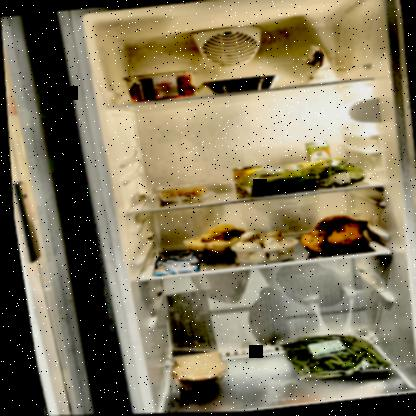chocolate: (147, 252, 198, 278)
corn: (227, 164, 265, 198)
green_beans: (270, 328, 387, 383)
heavy_cream: (301, 138, 334, 186)
mushrooms: (224, 227, 294, 267)
potato: (176, 222, 247, 261)
shrimp: (155, 185, 209, 203)
spinach: (232, 156, 366, 200)
strawberries: (121, 69, 204, 104)
sweet_potato: (292, 211, 373, 260)
